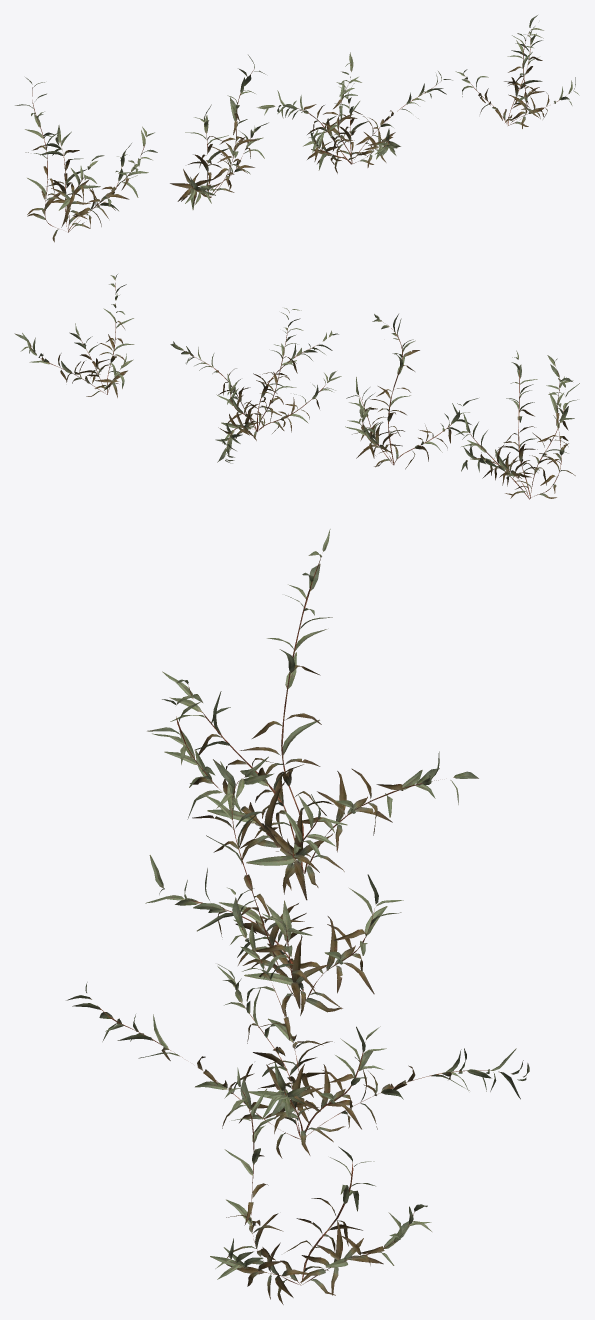
Rendered from shrub2_lo.glb.
3 views of the same model, one above another, from view 1: azimuth 30°, elevation 25°; view 2: azimuth 150°, elevation 25°; view 3: azimuth 270°, elevation 25° (orthographic). The views are drawn at different scales.
Visible parts, largest first — view 1: shrub_02_a; view 2: shrub_02_a; view 3: shrub_02_a.
Boxes of the visible parts, left/top/right/bottom form: shrub_02_a: left=15, top=15, right=579, bottom=242; shrub_02_a: left=14, top=274, right=579, bottom=499; shrub_02_a: left=66, top=529, right=529, bottom=1304.
Size of the model in its own units: 6.05 by 1.7 by 2.28.
Materials: 1 (1 with a texture image).
